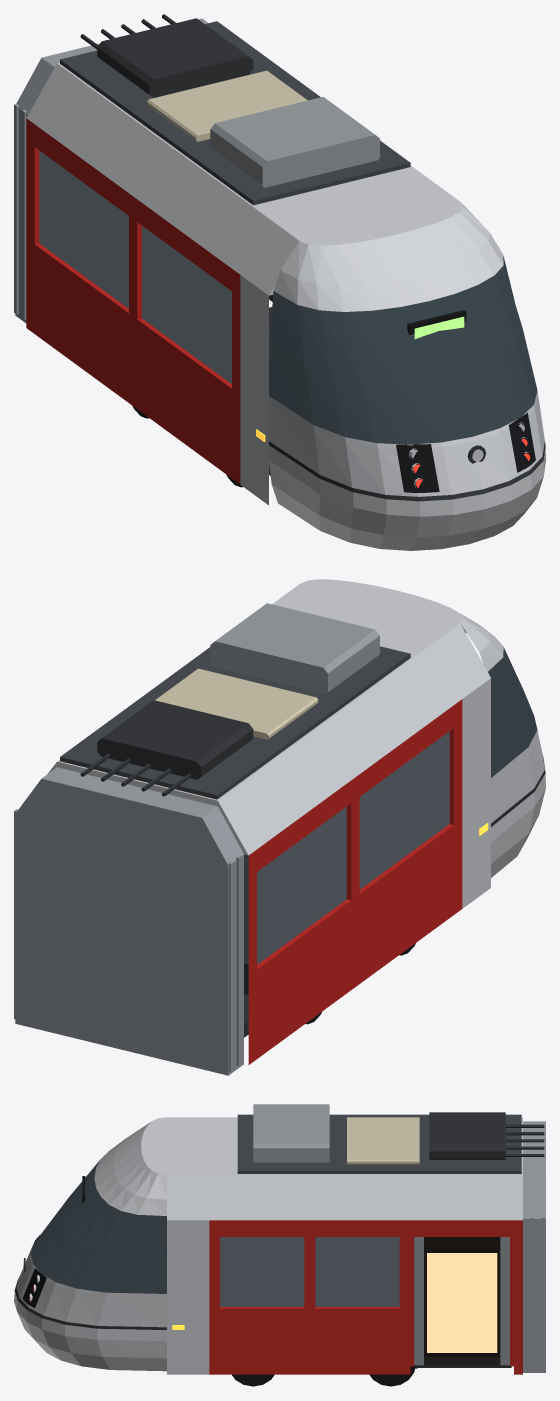
Rendered from 14t-e-open.glb.
3 views of the same model, one above another, from view 1: azimuth 30°, elevation 25°; view 2: azimuth 150°, elevation 25°; view 3: azimuth 270°, elevation 25° (orthographic). The views are drawn at different scales.
Visible parts, largest first — view 1: 14t-e-open; view 2: 14t-e-open; view 3: 14t-e-open.
Part boxes in pixels (<box>): 14t-e-open: <box>14,14,545,550</box>; 14t-e-open: <box>14,579,545,1075</box>; 14t-e-open: <box>14,1104,545,1386</box>.
Size of the model in its own units: 2.48 by 3.34 by 6.95.
